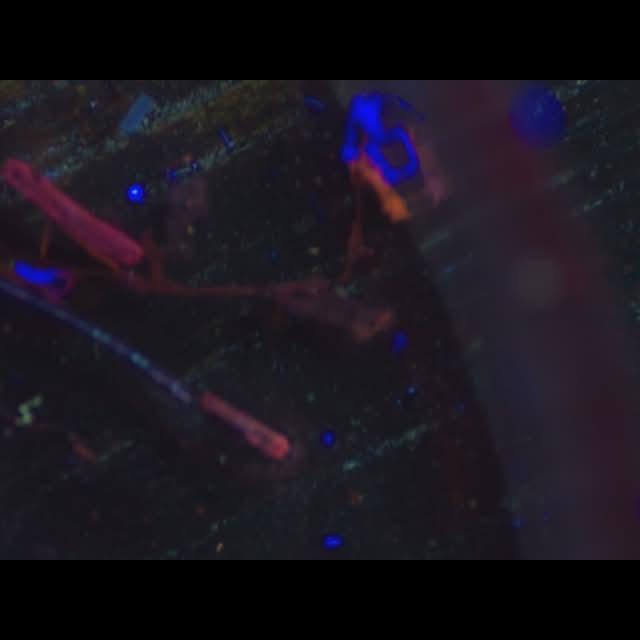Fibre: (14, 394, 42, 426)
Fragment: (0, 156, 144, 272), (196, 391, 290, 461)
